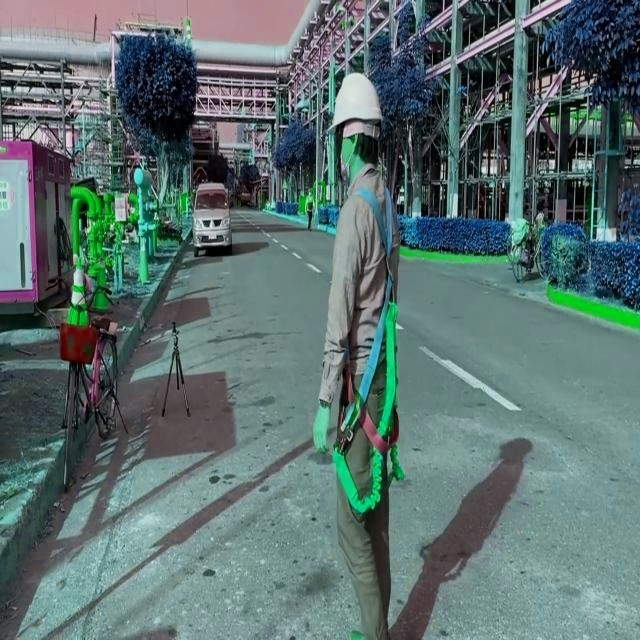safety belt: (332, 176, 421, 507)
